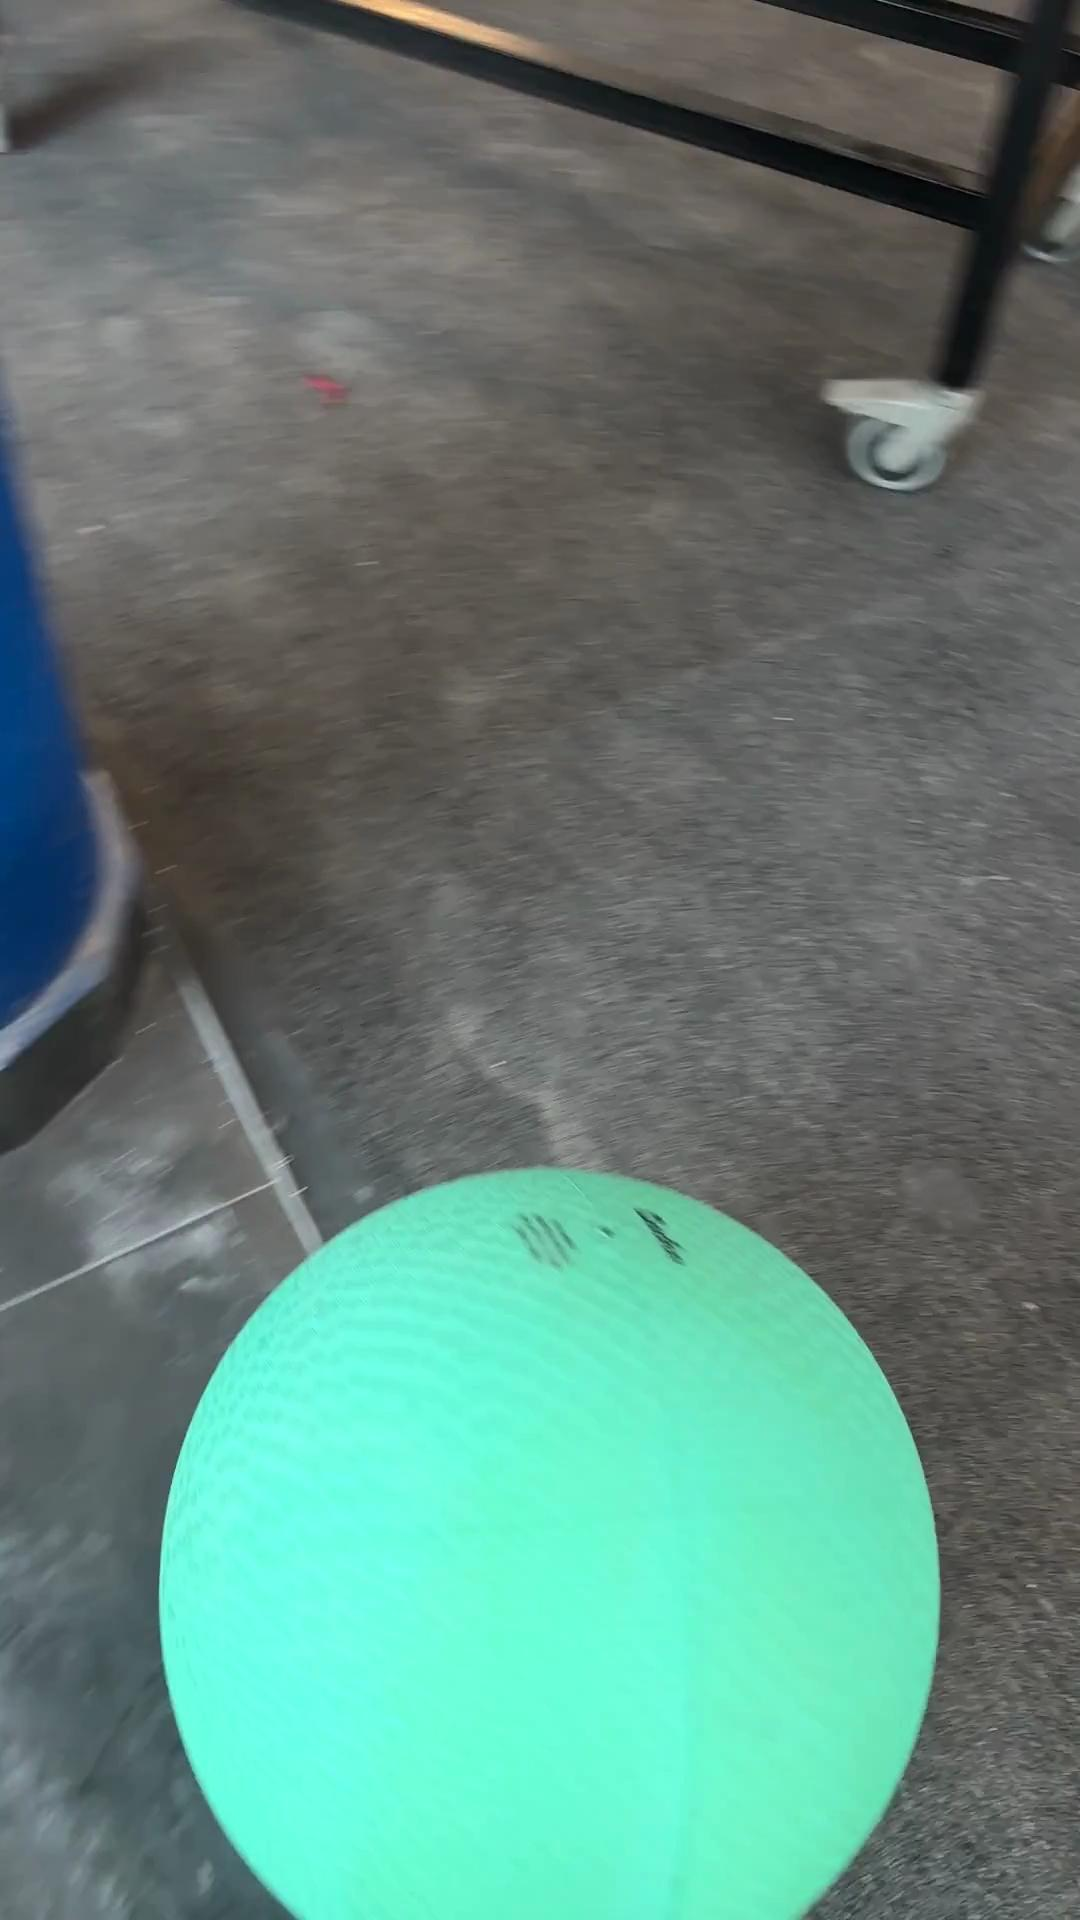ALGAE: (156, 1162, 943, 1916)
